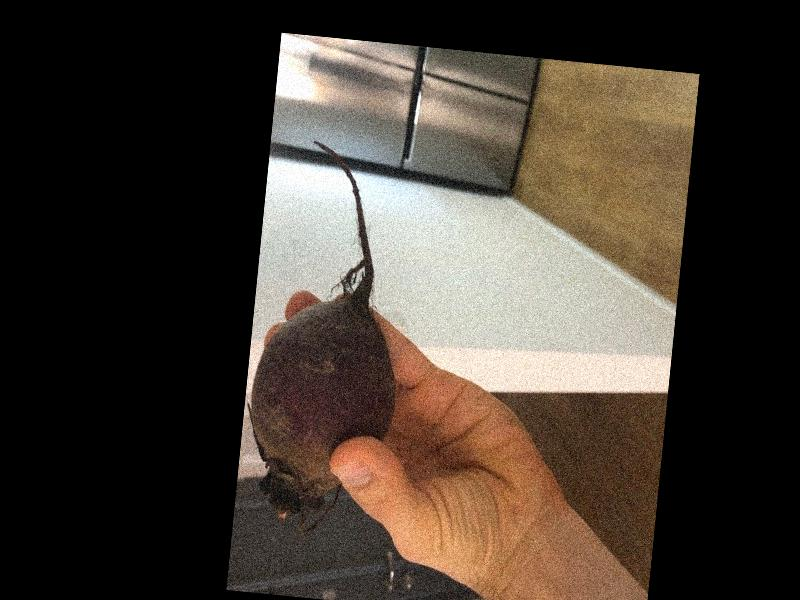Beet: (235, 137, 416, 542)
